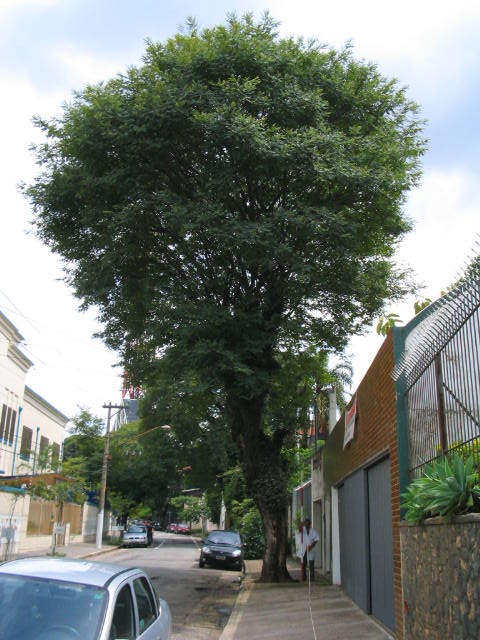crown: (19, 5, 425, 446)
stem: (229, 453, 297, 583)
stick: (295, 484, 308, 581)
tree: (17, 7, 425, 584)
